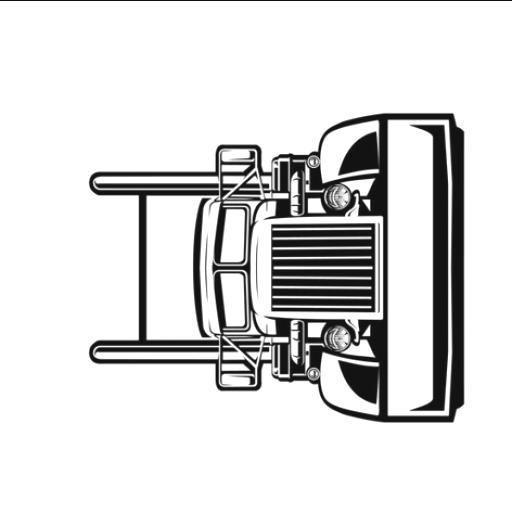truck: (88, 108, 464, 426)
